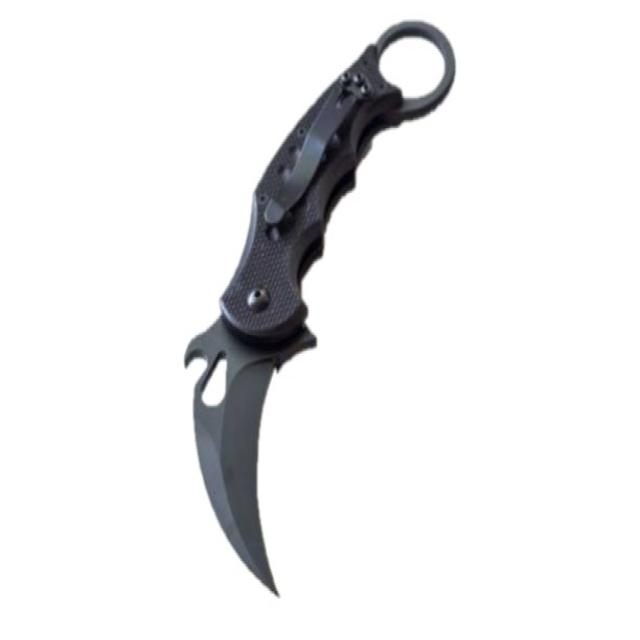knife: (173, 1, 464, 609)
